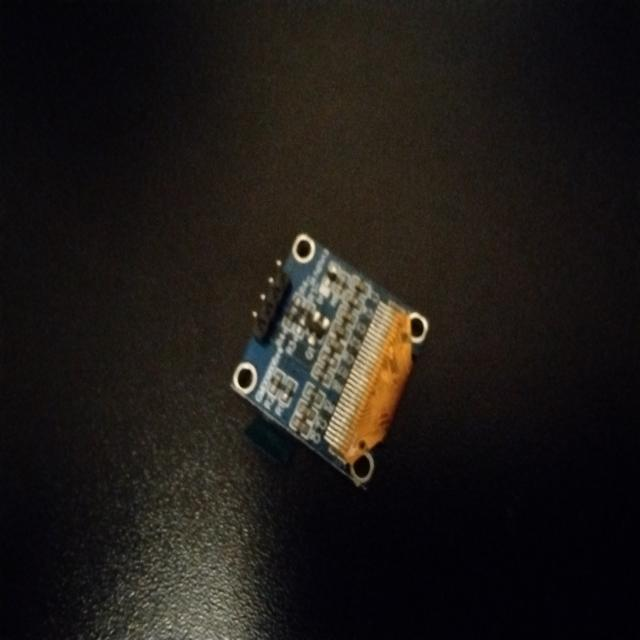oled: (226, 222, 436, 498)
